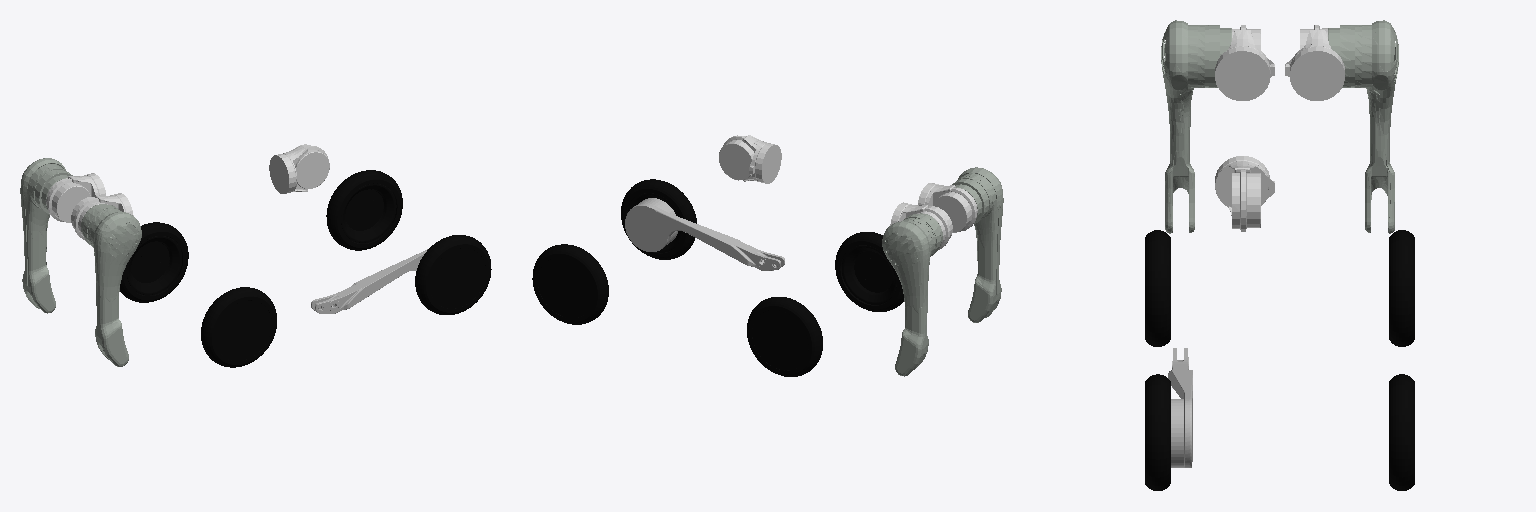
The robot description file, URDF, robot "b2w_description":
<?xml version='1.0' encoding='utf-8'?>
<robot name="b2w_description">
  <link name="base_link">
    <inertial>
      <origin xyz="0.000458 0.005261 0.000665" rpy="0 0 0" />
      <mass value="35.606" />
      <inertia ixx="0.27466" ixy="-0.000622" ixz="0.00315" iyy="1.0618" iyz="-0.00139" izz="1.1825" />
    </inertial>
    <visual>
      <origin xyz="0 0 0" rpy="0 0 0" />
      <geometry>
        <mesh filename="package://b2w_description/meshes/base_link.dae" />
      </geometry>
      <material name="白色logo_019-effect"><color rgba="1 1 1 1" /></material><material name="材质_041-effect"><color rgba="0 0 0 1" /></material><material name="磨砂铝合金_033-effect"><color rgba="0.85 0.85 0.85 1" /></material><material name="材质_044-effect"><color rgba="0.07323546 0.07323546 0.07323546 1" /></material><material name="材质_042-effect"><color rgba="0 0 0 1" /></material><material name="材质_040-effect"><color rgba="0 0 0 1" /></material><material name="材质_043-effect"><color rgba="0 0 0 1" /></material></visual>
    <collision>
      <origin xyz="0 0 0" rpy="0 0 0" />
        <geometry>
          <box size="0.5 0.28 0.15" />
        </geometry>
    </collision>
  </link>
  <link name="lidar_link">
    <inertial>
      <origin xyz="0.34218 0 0.17851" rpy="0 0 0" />
      <mass value="4.19E-15" />
      <inertia ixx="1.68E-27" ixy="-3.2E-45" ixz="7.68E-44" iyy="1.68E-27" iyz="-9.26E-47" izz="1.68E-27" />
    </inertial>
    <collision>
      <origin xyz="0 0 -0.02" rpy="0 0 0" />
      <geometry>
        <cylinder length="0.16" radius="0.076" />
        
      </geometry>
    </collision>
  </link>
  <joint name="joint_lidar" type="fixed">
    <origin xyz="0.34218 0 0.17851" rpy="0 0 0" />
    <parent link="base_link" />
    <child link="lidar_link" />
    <axis xyz="0 0 0" />
  </joint>
  <link name="f_dc_link">
    <inertial>
      <origin xyz="3.47E-18 0 5.55E-17" rpy="0 0 0" />
      <mass value="4.19E-15" />
      <inertia ixx="1.68E-27" ixy="-9.81E-45" ixz="-2.54E-44" iyy="1.68E-27" iyz="0" izz="1.68E-27" />
    </inertial>
  </link>
  <joint name="joint_f_dc" type="fixed">
    <origin xyz="0.42161 0.025 0.061851" rpy="-2.3562 0 -1.5708" />
    <parent link="base_link" />
    <child link="f_dc_link" />
    <axis xyz="0 0 0" />
  </joint>
  <link name="r_dc_link">
    <inertial>
      <origin xyz="-7.46E-16 -3.33E-16 -1.11E-15" rpy="0 0 0" />
      <mass value="4.19E-15" />
      <inertia ixx="1.68E-27" ixy="-4.31E-44" ixz="2.48E-45" iyy="1.68E-27" iyz="0" izz="1.68E-27" />
    </inertial>
  </link>
  <joint name="joint_r_dc" type="fixed">
    <origin xyz="-0.42244 -0.025 0.038026" rpy="-2.3562 0 1.5708" />
    <parent link="base_link" />
    <child link="r_dc_link" />
    <axis xyz="0 0 0" />
  </joint>
  <link name="imu_link">
    <inertial>
      <origin xyz="-2.02E-17 1.73E-17 -1.39E-17" rpy="0 0 0" />
      <mass value="4.19E-15" />
      <inertia ixx="1.68E-27" ixy="1.84E-44" ixz="-7.35E-44" iyy="1.68E-27" iyz="-3.67E-44" izz="1.68E-27" />
    </inertial>
  </link>
  <joint name="joint_imu" type="fixed">
    <origin xyz="0 -0.02341 0.04927" rpy="0 0 0" />
    <parent link="base_link" />
    <child link="imu_link" />
    <axis xyz="0 0 0" />
  </joint>
  <link name="head_Link">
    <inertial>
      <origin xyz="0.33989 -0.000168 0.12029" rpy="0 0 0" />
      <mass value="3.6885" />
      <inertia ixx="0.026455" ixy="3.15E-05" ixz="0.00166" iyy="0.029221" iyz="-3.27E-05" izz="0.010918" />
    </inertial>
    <collision>
      <origin xyz="0.41 0 0.005" rpy="0 0 0" />
      <geometry>
        <box size="0.04 0.12 0.14" />
      </geometry>
    </collision>
  </link>
  <joint name="joint_head" type="fixed">
    <origin xyz="0 0 0" rpy="0 0 0" />
    <parent link="base_link" />
    <child link="head_Link" />
    <axis xyz="0 0 0" />
  </joint>
  <link name="tail_link">
    <inertial>
      <origin xyz="-0.37448 0.000488 0.006495" rpy="0 0 0" />
      <mass value="0.795" />
      <inertia ixx="0.0028118" ixy="1.95E-05" ixz="-7.87E-06" iyy="0.0047506" iyz="-1.57E-05" izz="0.0029154" />
    </inertial>
    <collision>
      <origin xyz="-0.405 0 0.005" rpy="0 0 0" />
      <geometry>
        <box size="0.025 0.12 0.14" />
      </geometry>
    </collision>
  </link>
  <joint name="joint_tail" type="fixed">
    <origin xyz="0 0 0" rpy="0 0 0" />
    <parent link="base_link" />
    <child link="tail_link" />
    <axis xyz="0 0 0" />
  </joint>
  <link name="FL_hip">
    <inertial>
      <origin xyz="-0.003841 -0.009068 0" rpy="0 0 0" />
      <mass value="2.673" />
      <inertia ixx="0.0033188" ixy="7.16E-05" ixz="-3.77E-07" iyy="0.0048743" iyz="4E-09" izz="0.0037087" />
    </inertial>
    <visual>
      <origin xyz="0 0 0" rpy="0 0 0" />
      <geometry>
        <mesh filename="package://b2w_description/meshes/FL_hip.dae" />
      </geometry>
      <material name="磨砂铝合金_008-effect"><color rgba="0.85 0.85 0.85 1" /></material></visual>
    <collision>
      <origin xyz="0 0.12 0" rpy="1.5707963267948966 0 0" />
      <geometry>
        <cylinder length="0.05" radius="0.07" />
      </geometry>
    </collision>
  </link>
  <joint name="FL_hip_joint" type="revolute">
    <origin xyz="0.3285 0.072 0" rpy="0 0 0" />
    <parent link="base_link" />
    <child link="FL_hip" />
    <axis xyz="1 0 0" />
    <limit lower="-0.87" upper="0.87" effort="200" velocity="23" />
  </joint>
  <link name="FL_thigh">
    <inertial>
      <origin xyz="-0.006279 -0.032049 -0.057835" rpy="0 0 0" />
      <mass value="4.536" />
      <inertia ixx="0.062299" ixy="0.00087781" ixz="-0.0036475" iyy="0.061399" iyz="0.0083537" izz="0.0081997" />
    </inertial>
    <visual>
      <origin xyz="0 0 0" rpy="0 0 0" />
      <geometry>
        <mesh filename="package://b2w_description/meshes/FL_thigh.dae" />
      </geometry>
      <material name="磨砂铝合金_008-effect"><color rgba="0.85 0.85 0.85 1" /></material><material name="灰色硅胶_009-effect"><color rgba="0.6500053 0.68 0.6500053 1" /></material></visual>
    <collision>
      <origin xyz="-0.025 0 -0.16" rpy="0 1.57 0" />
      <geometry>
        <box size="0.32 0.0445 0.054" />
      </geometry>
    </collision>
  </link>
  <joint name="FL_thigh_joint" type="revolute">
    <origin xyz="0 0.11973 0" rpy="0 0 0" />
    <parent link="FL_hip" />
    <child link="FL_thigh" />
    <axis xyz="0 1 0" />
    <limit lower="-0.94" upper="4.69" effort="200" velocity="23" />
  </joint>
  <link name="FL_calf">
    <inertial>
      <origin xyz="0.005278 0.017301 -0.29778" rpy="0 0 0" />
      <mass value="2.2906" />
      <inertia ixx="0.029283" ixy="0.000221" ixz="-0.001064" iyy="0.030868" iyz="0.002093" izz="0.00326" />
    </inertial>
    <visual>
      <origin xyz="0 0 0" rpy="0 0 0" />
      <geometry>
        <mesh filename="package://b2w_description/meshes/FL_calf.dae" />
      </geometry>
      <material name="磨砂铝合金_008-effect"><color rgba="0.85 0.85 0.85 1" /></material></visual>
    <collision>
      <origin xyz="0 0 0" rpy="0 0 0" />
      <geometry>
        <mesh filename="package://b2w_description/meshes/FL_calf.dae" />
      </geometry>
    </collision>
  </link>
  <joint name="FL_calf_joint" type="revolute">
    <origin xyz="0 -8.8203E-05 -0.35" rpy="0 0 0" />
    <parent link="FL_thigh" />
    <child link="FL_calf" />
    <axis xyz="0 1 0" />
    <limit lower="-2.82" upper="-0.43" effort="320" velocity="14" />
  </joint>
  <link name="FL_foot">
    <inertial>
      <origin xyz="-0.000991 0.051053 -0.00113" rpy="0 0 0" />
      <mass value="1.083" />
      <inertia ixx="0.004121" ixy="6E-06" ixz="-4.8E-05" iyy="0.007776" iyz="7E-06" izz="0.004108" />
    </inertial>
    <visual>
      <origin xyz="0 0 0" rpy="0 0 0" />
      <geometry>
        <mesh filename="package://b2w_description/meshes/FL_foot.dae" />
      </geometry>
      <material name="黑色硅胶-effect"><color rgba="0.073 0.073 0.073 1" /></material></visual>
    <collision>
      <origin xyz="0 0 0" rpy="0 0 0" />
      <geometry>
        <mesh filename="package://b2w_description/meshes/FL_foot.dae" />
      </geometry>
    </collision>
  </link>
  <joint name="FL_foot_joint" type="continuous">
    <origin xyz="0 0 -0.35" rpy="0 0 0" />
    <parent link="FL_calf" />
    <child link="FL_foot" />
    <axis xyz="0 1 0" />
    <limit effort="20" velocity="50" />
  </joint>
  <link name="FR_hip">
    <inertial>
      <origin xyz="-0.003841 0.009068 0" rpy="0 0 0" />
      <mass value="2.673" />
      <inertia ixx="0.003318772" ixy="-7.16E-05" ixz="-3.77E-07" iyy="0.004874327" iyz="-4E-09" izz="0.003708731" />
    </inertial>
    <visual>
      <origin xyz="0 0 0" rpy="0 0 0" />
      <geometry>
        <mesh filename="package://b2w_description/meshes/FR_hip.dae" />
      </geometry>
      <material name="磨砂铝合金_008-effect"><color rgba="0.85 0.85 0.85 1" /></material></visual>
    <collision>
      <origin xyz="0 -0.12 0" rpy="1.5707963267948966 0 0" />
      <geometry>
        <cylinder length="0.05" radius="0.07" />
      </geometry>
    </collision>
  </link>
  <joint name="FR_hip_joint" type="revolute">
    <origin xyz="0.3285 -0.072 0" rpy="0 0 0" />
    <parent link="base_link" />
    <child link="FR_hip" />
    <axis xyz="1 0 0" />
    <limit lower="-0.87" upper="0.87" effort="200" velocity="23" />
  </joint>
  <link name="FR_thigh">
    <inertial>
      <origin xyz="-0.006279 0.032049 -0.057835" rpy="0 0 0" />
      <mass value="4.536" />
      <inertia ixx="0.06229908" ixy="-0.000877808" ixz="-0.003647464" iyy="0.06139927" iyz="-0.008353671" izz="0.008199745" />
    </inertial>
    <visual>
      <origin xyz="0 0 0" rpy="0 0 0" />
      <geometry>
        <mesh filename="package://b2w_description/meshes/FR_thigh.dae" />
      </geometry>
      <material name="磨砂铝合金_008-effect"><color rgba="0.85 0.85 0.85 1" /></material><material name="灰色硅胶_009-effect"><color rgba="0.6500053 0.68 0.6500053 1" /></material></visual>
    <collision>
      <origin rpy="0 1.57 0" xyz="-0.03 0 -0.2" />
      <geometry>
        <box size="0.25 0.028 0.04" />
      </geometry>
    </collision>
  </link>
  <joint name="FR_thigh_joint" type="revolute">
    <origin xyz="0 -0.11973 0" rpy="0 0 0" />
    <parent link="FR_hip" />
    <child link="FR_thigh" />
    <axis xyz="0 1 0" />
    <limit lower="-0.94" upper="4.69" effort="200" velocity="23" />
  </joint>
  <link name="FR_calf">
    <inertial>
      <origin xyz="0.005278 -0.017301 -0.297775" rpy="0 0 0" />
      <mass value="2.290557" />
      <inertia ixx="0.029283" ixy="-0.000221" ixz="-0.001064" iyy="0.030868" iyz="-0.002093" izz="0.00326" />
    </inertial>
    <visual>
      <origin xyz="0 0 0" rpy="0 0 0" />
      <geometry>
        <mesh filename="package://b2w_description/meshes/FR_calf.dae" />
      </geometry>
      <material name="磨砂铝合金_031-effect"><color rgba="0.7487598 0.7487598 0.7487598 1" /></material></visual>
    <collision>
      <origin xyz="0 0 0" rpy="0 0 0" />
      <geometry>
        <mesh filename="package://b2w_description/meshes/FR_calf.dae" />
      </geometry>
    </collision>
  </link>
  <joint name="FR_calf_joint" type="revolute">
    <origin xyz="0 8.8205E-05 -0.35" rpy="0 0 0" />
    <parent link="FR_thigh" />
    <child link="FR_calf" />
    <axis xyz="0 1 0" />
    <limit lower="-2.82" upper="-0.43" effort="320" velocity="14" />
  </joint>
  <link name="FR_foot">
    <inertial>
      <origin xyz="-0.000991 -0.051053 -0.00113" rpy="0 0 0" />
      <mass value="1.083" />
      <inertia ixx="0.004121" ixy="-6E-06" ixz="-4.8E-05" iyy="0.007776" iyz="-7E-06" izz="0.004108" />
    </inertial>
    <visual>
      <origin xyz="0 0 0" rpy="0 0 0" />
      <geometry>
        <mesh filename="package://b2w_description/meshes/FR_foot.dae" />
      </geometry>
      <material name="黑色硅胶-effect"><color rgba="0.073 0.073 0.073 1" /></material></visual>
    <collision>
      <origin xyz="0 0 0" rpy="0 0 0" />
      <geometry>
        <mesh filename="package://b2w_description/meshes/FR_foot.dae" />
      </geometry>
    </collision>
  </link>
  <joint name="FR_foot_joint" type="continuous">
    <origin xyz="0 -0.001 -0.35" rpy="0 0 0" />
    <parent link="FR_calf" />
    <child link="FR_foot" />
    <axis xyz="0 1 0" />
    <limit effort="20" velocity="50" />
  </joint>
  <link name="RL_hip">
    <inertial>
      <origin xyz="0.003841 -0.009068 0" rpy="0 0 0" />
      <mass value="2.673" />
      <inertia ixx="0.0033188" ixy="-7.16E-05" ixz="3.77E-07" iyy="0.0048743" iyz="4E-09" izz="0.0037087" />
    </inertial>
    <visual>
      <origin xyz="0 0 0" rpy="0 0 0" />
      <geometry>
        <mesh filename="package://b2w_description/meshes/RL_hip.dae" />
      </geometry>
      <material name="磨砂铝合金_008-effect"><color rgba="0.85 0.85 0.85 1" /></material></visual>
    <collision>
      <origin xyz="0 0.12 0" rpy="1.5707963267948966 0 0" />
      <geometry>
        <cylinder length="0.05" radius="0.07" />
      </geometry>
    </collision>
  </link>
  <joint name="RL_hip_joint" type="revolute">
    <origin xyz="-0.3285 0.072 0" rpy="0 0 0" />
    <parent link="base_link" />
    <child link="RL_hip" />
    <axis xyz="1 0 0" />
    <limit lower="-0.87" upper="0.87" effort="200" velocity="23" />
  </joint>
  <link name="RL_thigh">
    <inertial>
      <origin xyz="-0.006279 -0.032049 -0.057835" rpy="0 0 0" />
      <mass value="4.536" />
      <inertia ixx="0.06229908" ixy="0.000877808" ixz="-0.003647464" iyy="0.06139927" iyz="0.008353671" izz="0.008199745" />
    </inertial>
    <visual>
      <origin xyz="0 0 0" rpy="0 0 0" />
      <geometry>
        <mesh filename="package://b2w_description/meshes/RL_thigh.dae" />
      </geometry>
      <material name="磨砂铝合金_008-effect"><color rgba="0.85 0.85 0.85 1" /></material><material name="灰色硅胶_009-effect"><color rgba="0.6500053 0.68 0.6500053 1" /></material></visual>
    <collision>
      <origin rpy="0 1.57 0" xyz="-0.03 0 -0.2" />
      <geometry>
        <box size="0.25 0.028 0.04" />
      </geometry>
    </collision>
  </link>
  <joint name="RL_thigh_joint" type="revolute">
    <origin xyz="0 0.11973 0" rpy="0 0 0" />
    <parent link="RL_hip" />
    <child link="RL_thigh" />
    <axis xyz="0 1 0" />
    <limit lower="-0.94" upper="4.69" effort="200" velocity="23" />
  </joint>
  <link name="RL_calf">
    <inertial>
      <origin xyz="0.005278 0.017301 -0.29778" rpy="0 0 0" />
      <mass value="2.2906" />
      <inertia ixx="0.029283" ixy="0.000221" ixz="-0.001064" iyy="0.030868" iyz="0.002093" izz="0.00326" />
    </inertial>
    <visual>
      <origin xyz="0 0 0" rpy="0 0 0" />
      <geometry>
        <mesh filename="package://b2w_description/meshes/RL_calf.dae" />
      </geometry>
      <material name="磨砂铝合金_008-effect"><color rgba="0.85 0.85 0.85 1" /></material></visual>
    <collision>
      <origin xyz="0 0 0" rpy="0 0 0" />
      <geometry>
        <mesh filename="package://b2w_description/meshes/RL_calf.dae" />
      </geometry>
    </collision>
  </link>
  <joint name="RL_calf_joint" type="revolute">
    <origin xyz="0 -8.8205E-05 -0.35" rpy="0 0 0" />
    <parent link="RL_thigh" />
    <child link="RL_calf" />
    <axis xyz="0 1 0" />
    <limit lower="-2.82" upper="-0.43" effort="320" velocity="14" />
  </joint>
  <link name="RL_foot">
    <inertial>
      <origin xyz="-0.000991 0.051053 -0.00113" rpy="0 0 0" />
      <mass value="1.083" />
      <inertia ixx="0.004121" ixy="6E-06" ixz="-4.8E-05" iyy="0.007776" iyz="7E-06" izz="0.004108" />
    </inertial>
    <visual>
      <origin xyz="0 0 0" rpy="0 0 0" />
      <geometry>
        <mesh filename="package://b2w_description/meshes/RL_foot.dae" />
      </geometry>
      <material name="黑色硅胶-effect"><color rgba="0.073 0.073 0.073 1" /></material></visual>
    <collision>
      <origin xyz="0 0 0" rpy="0 0 0" />
      <geometry>
        <mesh filename="package://b2w_description/meshes/RL_foot.dae" />
      </geometry>
    </collision>
  </link>
  <joint name="RL_foot_joint" type="continuous">
    <origin xyz="0 0 -0.35" rpy="0 0 0" />
    <parent link="RL_calf" />
    <child link="RL_foot" />
    <axis xyz="0 1 0" />
    <limit effort="20" velocity="50" />
  </joint>
  <link name="RR_hip">
    <inertial>
      <origin xyz="0.003841 0.009068 0" rpy="0 0 0" />
      <mass value="2.673" />
      <inertia ixx="0.0033188" ixy="7.16E-05" ixz="3.77E-07" iyy="0.0048743" iyz="-4E-09" izz="0.0037087" />
    </inertial>
    <visual>
      <origin xyz="0 0 0" rpy="0 0 0" />
      <geometry>
        <mesh filename="package://b2w_description/meshes/RR_hip.dae" />
      </geometry>
      <material name="磨砂铝合金_008-effect"><color rgba="0.85 0.85 0.85 1" /></material></visual>
    <collision>
      <origin xyz="0 -0.12 0" rpy="1.5707963267948966 0 0" />
      <geometry>
        <cylinder length="0.05" radius="0.07" />
      </geometry>
    </collision>
  </link>
  <joint name="RR_hip_joint" type="revolute">
    <origin xyz="-0.3285 -0.072 0" rpy="0 0 0" />
    <parent link="base_link" />
    <child link="RR_hip" />
    <axis xyz="1 0 0" />
    <limit lower="-0.87" upper="0.87" effort="200" velocity="23" />
  </joint>
  <link name="RR_thigh">
    <inertial>
      <origin xyz="-0.006279 0.032049 -0.057835" rpy="0 0 0" />
      <mass value="4.536" />
      <inertia ixx="0.062299" ixy="-0.00087781" ixz="-0.0036475" iyy="0.061399" iyz="-0.0083537" izz="0.0081997" />
    </inertial>
    <visual>
      <origin xyz="0 0 0" rpy="0 0 0" />
      <geometry>
        <mesh filename="package://b2w_description/meshes/RR_thigh.dae" />
      </geometry>
      <material name="磨砂铝合金_008-effect"><color rgba="0.85 0.85 0.85 1" /></material><material name="灰色硅胶_009-effect"><color rgba="0.6500053 0.68 0.6500053 1" /></material></visual>
    <collision>
      <origin rpy="0 1.57 0" xyz="-0.03 0 -0.2" />
      <geometry>
        <box size="0.25 0.028 0.04" />
      </geometry>
    </collision>
  </link>
  <joint name="RR_thigh_joint" type="revolute">
    <origin xyz="0 -0.11973 0" rpy="0 0 0" />
    <parent link="RR_hip" />
    <child link="RR_thigh" />
    <axis xyz="0 1 0" />
    <limit lower="-0.94" upper="4.69" effort="200" velocity="23" />
  </joint>
  <link name="RR_calf">
    <inertial>
      <origin xyz="0.005278 -0.017301 -0.29778" rpy="0 0 0" />
      <mass value="2.2906" />
      <inertia ixx="0.029283" ixy="-0.000221" ixz="-0.001064" iyy="0.030868" iyz="-0.002093" izz="0.00326" />
    </inertial>
    <visual>
      <origin xyz="0 0 0" rpy="0 0 0" />
      <geometry>
        <mesh filename="package://b2w_description/meshes/RR_calf.dae" />
      </geometry>
      <material name="磨砂铝合金_031-effect"><color rgba="0.7487598 0.7487598 0.7487598 1" /></material></visual>
    <collision>
      <origin xyz="0 0 0" rpy="0 0 0" />
      <geometry>
        <mesh filename="package://b2w_description/meshes/RR_calf.dae" />
      </geometry>
    </collision>
  </link>
  <joint name="RR_calf_joint" type="revolute">
    <origin xyz="0 8.8205E-05 -0.35" rpy="0 0 0" />
    <parent link="RR_thigh" />
    <child link="RR_calf" />
    <axis xyz="0 1 0" />
    <limit lower="-2.82" upper="-0.43" effort="320" velocity="14" />
  </joint>
  <link name="RR_foot">
    <inertial>
      <origin xyz="-0.000991 -0.051053 -0.00113" rpy="0 0 0" />
      <mass value="1.083" />
      <inertia ixx="0.004121" ixy="-6E-06" ixz="-4.8E-05" iyy="0.007776" iyz="-7E-06" izz="0.004108" />
    </inertial>
    <visual>
      <origin xyz="0 0 0" rpy="0 0 0" />
      <geometry>
        <mesh filename="package://b2w_description/meshes/RR_foot.dae" />
      </geometry>
      <material name="黑色硅胶-effect"><color rgba="0.073 0.073 0.073 1" /></material></visual>
    <collision>
      <origin xyz="0 0 0" rpy="0 0 0" />
      <geometry>
        <mesh filename="package://b2w_description/meshes/RR_foot.dae" />
      </geometry>
    </collision>
  </link>
  <joint name="RR_foot_joint" type="continuous">
    <origin xyz="0 -0.001 -0.35" rpy="0 0 0" />
    <parent link="RR_calf" />
    <child link="RR_foot" />
    <axis xyz="0 1 0" />
    <limit effort="20" velocity="50" />
  </joint>
  <link name="f_oc_link">
    <inertial>
      <origin xyz="-3.39E-15 1.46E-16 -6.11E-16" rpy="0 0 0" />
      <mass value="4.19E-15" />
      <inertia ixx="1.68E-27" ixy="-3.89E-44" ixz="5.04E-44" iyy="1.68E-27" iyz="2.81E-45" izz="1.68E-27" />
    </inertial>
  </link>
  <joint name="f_oc_link" type="fixed">
    <origin xyz="0.3993 0 -0.01576" rpy="-1.5708 0 -1.5708" />
    <parent link="base_link" />
    <child link="f_oc_link" />
    <axis xyz="0 0 0" />
  </joint>
  <link name="logo_link">
    <inertial>
      <origin xyz="0 -2.3E-23 0" rpy="0 0 0" />
      <mass value="4.19E-15" />
      <inertia ixx="1.68E-27" ixy="0" ixz="0" iyy="1.68E-27" iyz="0" izz="1.68E-27" />
    </inertial>
  </link>
  <joint name="joint_logo" type="fixed">
    <origin xyz="0 0 0" rpy="0 0 0" />
    <parent link="base_link" />
    <child link="logo_link" />
    <axis xyz="0 0 0" />
  </joint>
  <link name="r_oc_ink">
    <inertial>
      <origin xyz="-0.39143 1.52E-07 -0.011961" rpy="0 0 0" />
      <mass value="4.19E-12" />
      <inertia ixx="1.68E-22" ixy="9.03E-39" ixz="0" iyy="1.68E-22" iyz="-1.2E-38" izz="1.68E-22" />
    </inertial>
  </link>
  <joint name="joint_r_oc" type="fixed">
    <origin xyz="-0.39143 0 -0.026131" rpy="-1.5708 0 1.5708" />
    <parent link="base_link" />
    <child link="r_oc_ink" />
    <axis xyz="0 0 0" />
  </joint>
</robot>

--- What the picture shows (computed from the rendered views, not written in the file) ---
Views: 3 orthographic renders of the robot side by side, from view 1: azimuth 30°, elevation 25°; view 2: azimuth 150°, elevation 25°; view 3: azimuth 270°, elevation 25°.
Robot: b2w_description — 26 links, 25 joints (12 revolute, 4 continuous, 9 fixed); root link base_link; default pose: joints at zero except 4 at the middle of their limits (FL_calf_joint = -1.62, FR_calf_joint = -1.62, RL_calf_joint = -1.62, RR_calf_joint = -1.62).
Visible links, largest first — view 1: RR_thigh, RR_foot, FL_foot, FR_foot, RL_thigh, RL_foot, FR_hip, FR_calf, RL_hip, RR_hip; view 2: RL_thigh, FL_foot, RL_foot, RR_thigh, FR_calf, RR_foot, FR_hip, FR_foot, RR_hip, RL_hip; view 3: RR_thigh, RL_thigh, FR_hip, RR_hip, RL_hip, RL_foot, RR_foot, FL_foot, FR_foot, FR_calf.
Boxes of the visible links, bbox=[...] form: RR_thigh: bbox=[81, 204, 141, 366]; RR_foot: bbox=[201, 287, 276, 367]; FL_foot: bbox=[326, 170, 402, 250]; FR_foot: bbox=[415, 235, 491, 314]; RL_thigh: bbox=[20, 158, 72, 313]; RL_foot: bbox=[120, 222, 188, 302]; FR_hip: bbox=[269, 144, 329, 193]; FR_calf: bbox=[311, 249, 427, 313]; RL_hip: bbox=[46, 173, 105, 222]; RR_hip: bbox=[71, 193, 133, 240]; RL_thigh: bbox=[882, 213, 942, 376]; FL_foot: bbox=[532, 244, 608, 324]; RL_foot: bbox=[747, 297, 822, 376]; RR_thigh: bbox=[952, 167, 1003, 322]; FR_calf: bbox=[625, 198, 784, 270]; RR_foot: bbox=[835, 232, 903, 311]; FR_hip: bbox=[719, 135, 781, 183]; FR_foot: bbox=[621, 179, 696, 259]; RR_hip: bbox=[918, 183, 977, 232]; RL_hip: bbox=[890, 202, 952, 249]; RR_thigh: bbox=[1161, 20, 1231, 233]; RL_thigh: bbox=[1328, 20, 1398, 233]; FR_hip: bbox=[1215, 156, 1274, 231]; RR_hip: bbox=[1215, 25, 1274, 100]; RL_hip: bbox=[1285, 25, 1344, 100]; RL_foot: bbox=[1389, 230, 1414, 346]; RR_foot: bbox=[1145, 230, 1170, 346]; FL_foot: bbox=[1389, 374, 1414, 490]; FR_foot: bbox=[1145, 374, 1170, 490]; FR_calf: bbox=[1168, 348, 1192, 467].
Bounding box of the posed robot: 1.19 × 0.5201 × 0.5124 m (x, y, z).
Meshes: 17 distinct files referenced, 10 mesh visuals loaded (10 Collada DAE); not drawn: 7 (reference not matched to a file when rendering).
